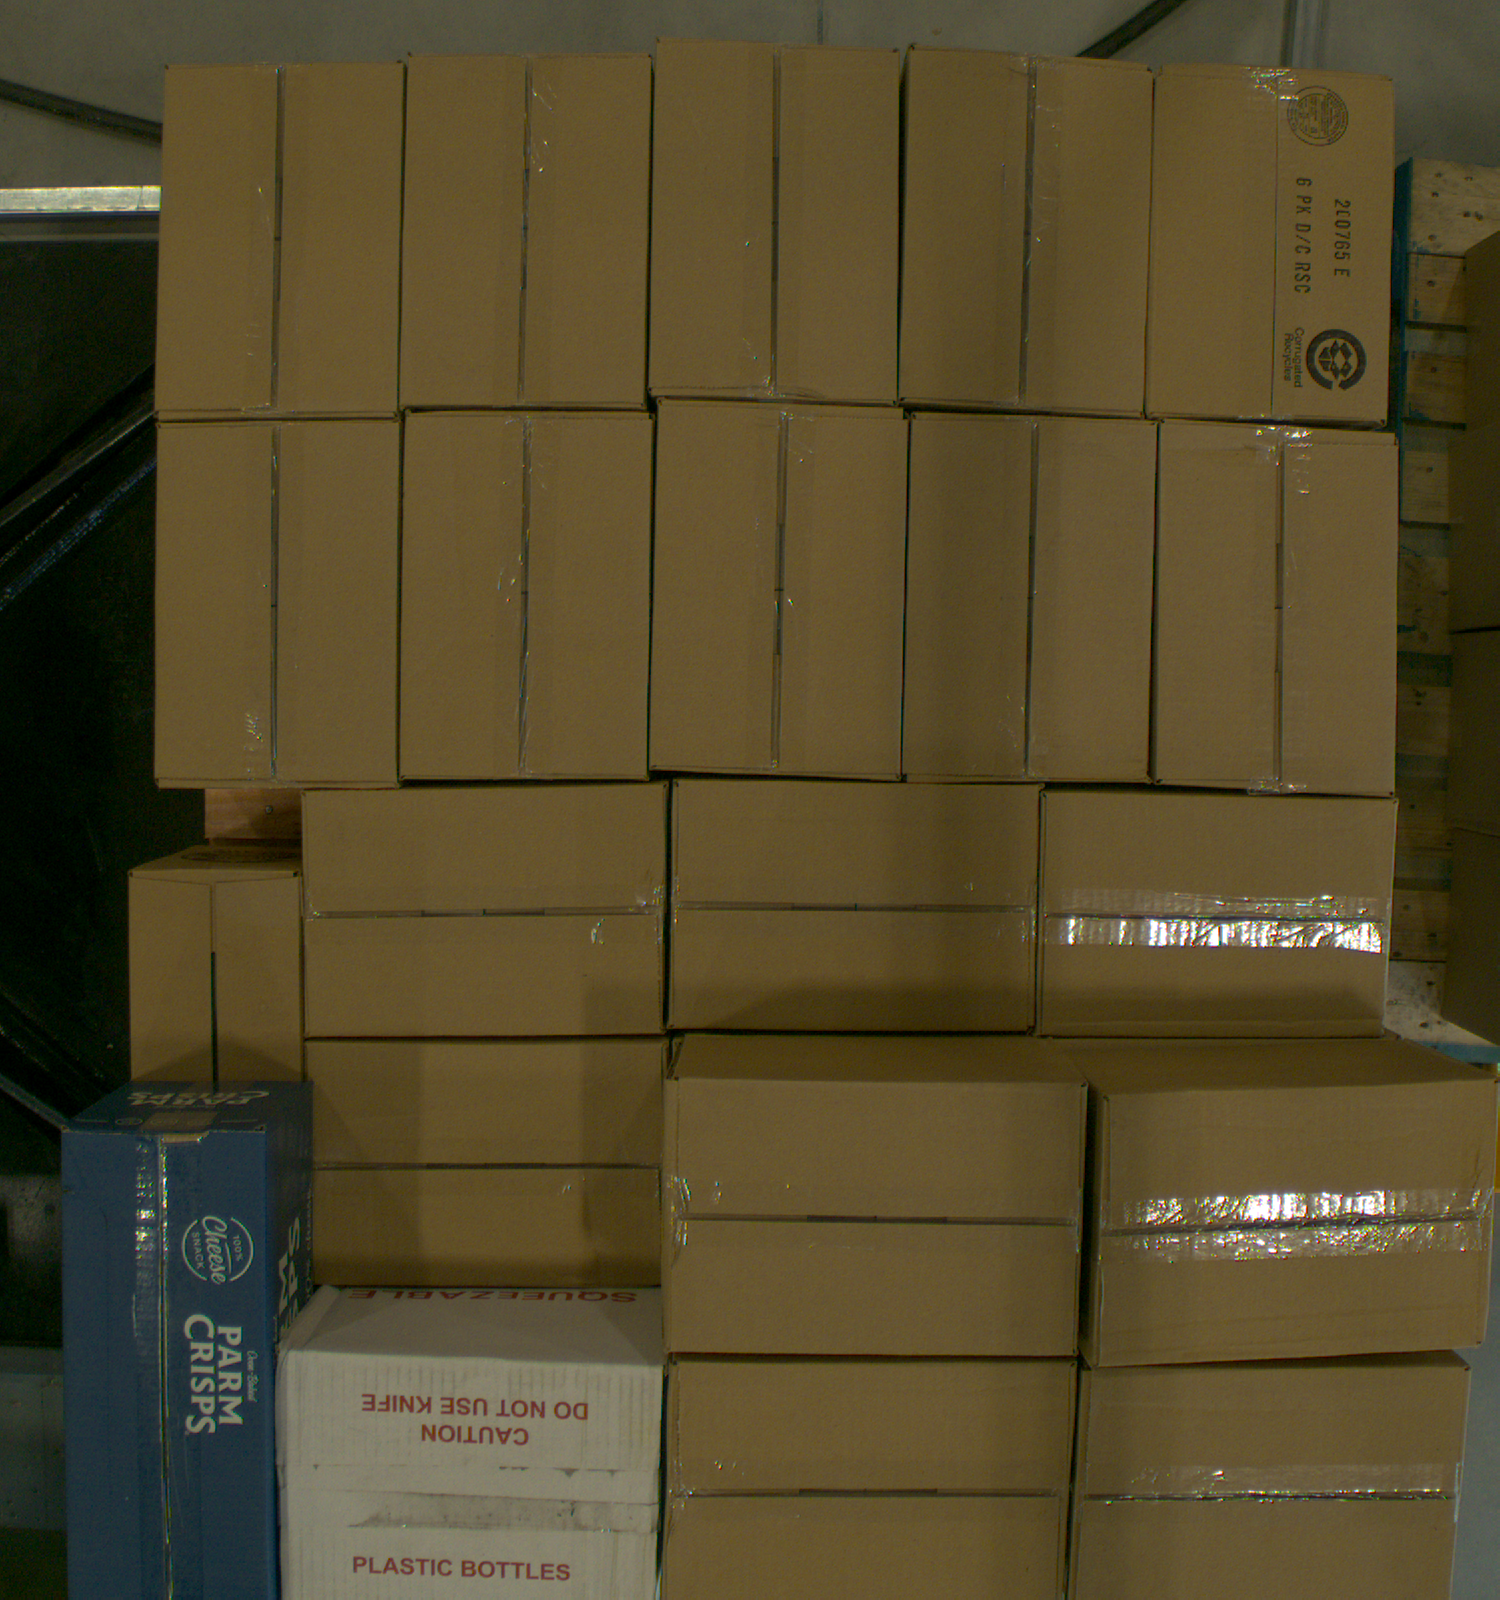box top: (664, 1078, 1088, 1355), (1097, 1083, 1500, 1367), (62, 1129, 273, 1600), (651, 399, 909, 781), (663, 1363, 1078, 1600), (276, 1350, 663, 1600), (1069, 1365, 1473, 1600), (899, 47, 1153, 419), (400, 412, 654, 781), (904, 414, 1157, 781), (671, 780, 1039, 1030), (1155, 419, 1398, 796), (305, 785, 667, 1038), (650, 38, 899, 403), (154, 59, 405, 419), (400, 52, 653, 407), (1148, 63, 1394, 426), (158, 419, 400, 787), (1036, 794, 1397, 1038), (307, 1043, 667, 1287), (130, 873, 302, 1081)
